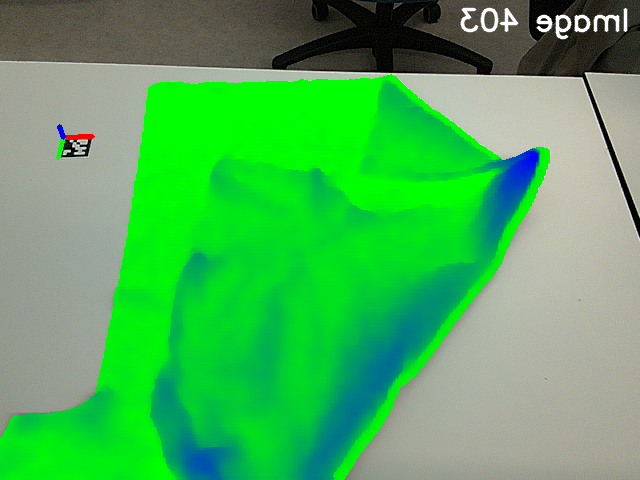V: (200, 140, 268, 202), (343, 151, 404, 191)
